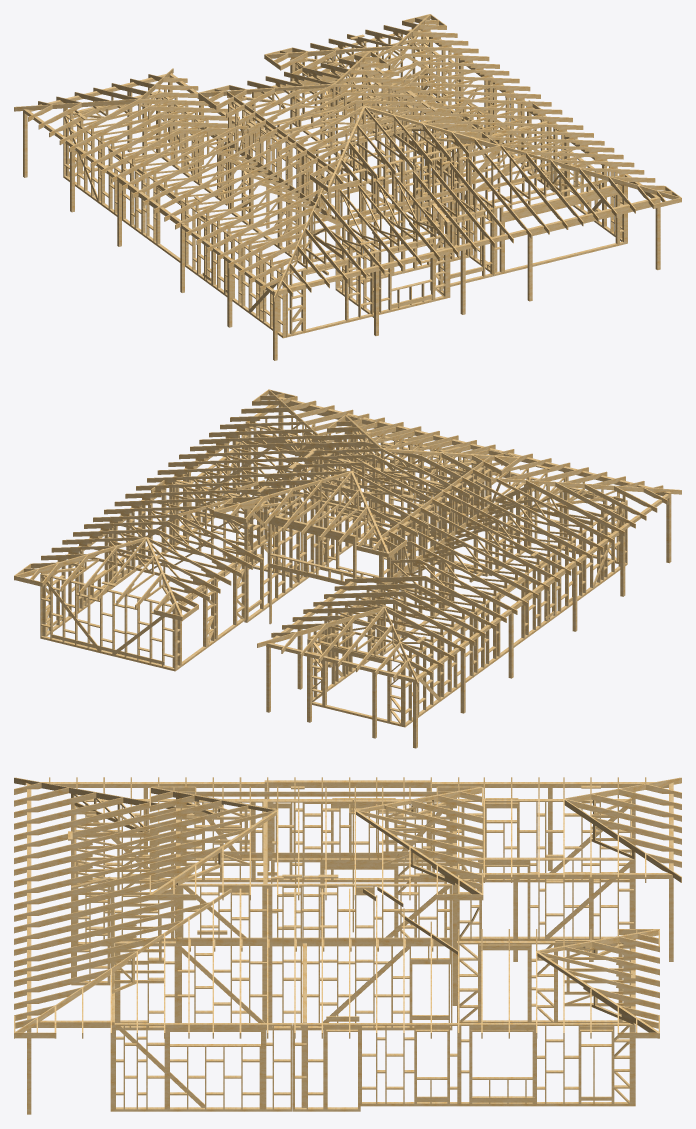
File: steel_node.glb
3 renders of one model, top to bottom at view 1: azimuth 30°, elevation 25°; view 2: azimuth 150°, elevation 25°; view 3: azimuth 270°, elevation 25°, orthographic. The views are drawn at different scales.
Visible parts, largest first — view 1: IfcBuildingElementProxy___VE12, IfcBuildingElementProxy___VE10, IfcBuildingElementProxy___VE27, IfcBuildingElementProxy___VE9, IfcBuildingElementProxy___VE8, IfcBuildingElementProxy___VE17, IfcBuildingElementProxy___VE28, IfcBuildingElementProxy___VE34, IfcBuildingElementProxy___VE18, IfcBuildingElementProxy___VE29, IfcBuildingElementProxy___B1, IfcBuildingElementProxy___VE6 (+78 smaller); view 2: IfcBuildingElementProxy___VE22, IfcBuildingElementProxy___VE9, IfcBuildingElementProxy___VE24, IfcBuildingElementProxy___VE10, IfcBuildingElementProxy___VE8, IfcBuildingElementProxy___VE23, IfcBuildingElementProxy___VE34, IfcBuildingElementProxy___VE7, IfcBuildingElementProxy___VE6, IfcBuildingElementProxy___VE31, IfcBuildingElementProxy___VE21, IfcBuildingElementProxy___VE3 (+59 smaller); view 3: IfcBuildingElementProxy___VE18, IfcBuildingElementProxy___VE21, IfcBuildingElementProxy___VE6, IfcBuildingElementProxy___VE31, IfcBuildingElementProxy___VE24, IfcBuildingElementProxy___VE34, IfcBuildingElementProxy___VE23, IfcBuildingElementProxy___VE8, IfcBuildingElementProxy___VE32, IfcBuildingElementProxy___VE26, IfcBuildingElementProxy___VE2, IfcBuildingElementProxy___VE20 (+60 smaller).
Boxes of the visible parts, bbox=[...] form: IfcBuildingElementProxy___VE12: bbox=[302, 233, 447, 333]; IfcBuildingElementProxy___VE10: bbox=[212, 222, 285, 338]; IfcBuildingElementProxy___VE27: bbox=[404, 143, 469, 272]; IfcBuildingElementProxy___VE9: bbox=[130, 163, 212, 285]; IfcBuildingElementProxy___VE8: bbox=[63, 115, 131, 226]; IfcBuildingElementProxy___VE17: bbox=[491, 176, 624, 276]; IfcBuildingElementProxy___VE28: bbox=[338, 159, 404, 288]; IfcBuildingElementProxy___VE34: bbox=[228, 98, 300, 192]; IfcBuildingElementProxy___VE18: bbox=[554, 129, 627, 244]; IfcBuildingElementProxy___VE29: bbox=[303, 166, 435, 264]; IfcBuildingElementProxy___B1: bbox=[273, 228, 532, 295]; IfcBuildingElementProxy___VE6: bbox=[157, 91, 227, 205]; IfcBuildingElementProxy___VE22: bbox=[40, 574, 176, 671]; IfcBuildingElementProxy___VE9: bbox=[471, 552, 555, 677]; IfcBuildingElementProxy___VE24: bbox=[244, 503, 318, 622]; IfcBuildingElementProxy___VE10: bbox=[556, 500, 627, 616]; IfcBuildingElementProxy___VE8: bbox=[402, 615, 472, 727]; IfcBuildingElementProxy___VE23: bbox=[177, 555, 245, 669]; IfcBuildingElementProxy___VE34: bbox=[379, 490, 454, 584]; IfcBuildingElementProxy___VE7: bbox=[310, 639, 403, 726]; IfcBuildingElementProxy___VE6: bbox=[307, 589, 380, 701]; IfcBuildingElementProxy___VE31: bbox=[244, 459, 318, 552]; IfcBuildingElementProxy___VE21: bbox=[46, 528, 112, 636]; IfcBuildingElementProxy___VE3: bbox=[268, 514, 356, 585]; IfcBuildingElementProxy___VE18: bbox=[110, 1023, 291, 1111]; IfcBuildingElementProxy___VE21: bbox=[458, 1023, 630, 1106]; IfcBuildingElementProxy___VE6: bbox=[457, 857, 635, 940]; IfcBuildingElementProxy___VE31: bbox=[271, 883, 452, 944]; IfcBuildingElementProxy___VE24: bbox=[271, 945, 452, 1030]; IfcBuildingElementProxy___VE34: bbox=[271, 799, 452, 860]; IfcBuildingElementProxy___VE23: bbox=[457, 941, 630, 1022]; IfcBuildingElementProxy___VE8: bbox=[463, 799, 630, 882]; IfcBuildingElementProxy___VE32: bbox=[176, 883, 270, 944]; IfcBuildingElementProxy___VE26: bbox=[176, 945, 270, 1030]; IfcBuildingElementProxy___VE2: bbox=[271, 861, 452, 946]; IfcBuildingElementProxy___VE20: bbox=[360, 1023, 458, 1106].
Bounding box in the file's own units: 19.97 × 6.57 × 22.05.
Materials: 1 (1 with a texture image).
